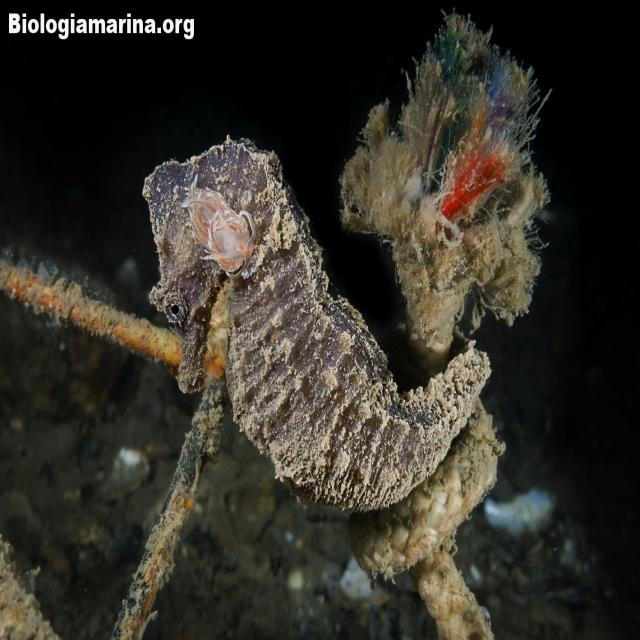Hippo: (138, 132, 230, 394)
